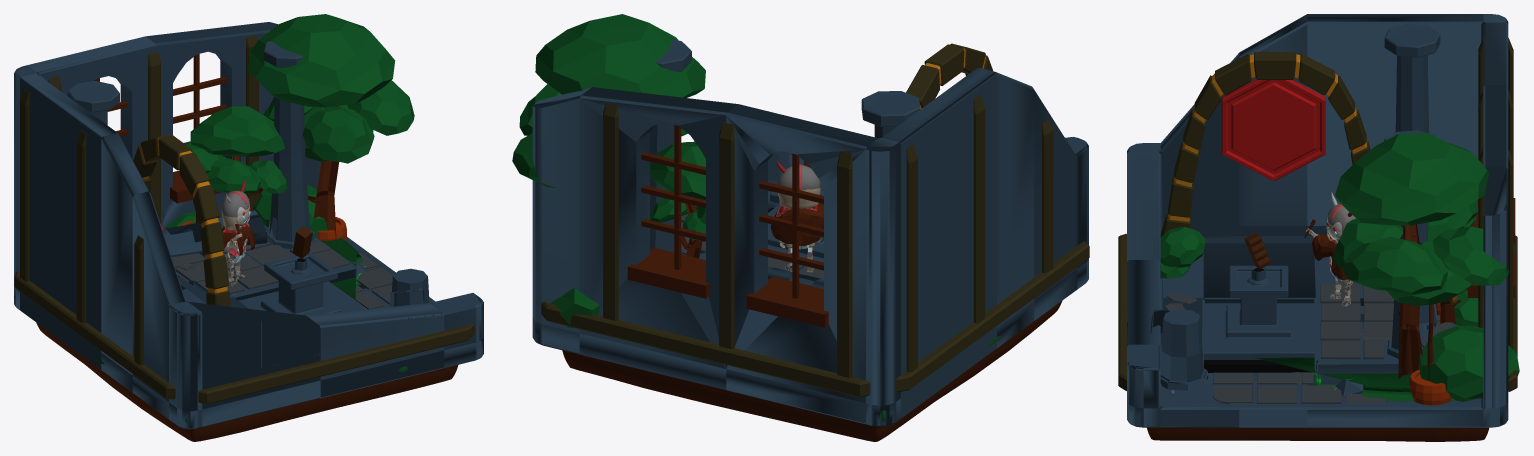
File: GameArtGrundscene_0002_bread_003.fbx
The picture shows the model from 3 angles, left to right: view 1: azimuth 30°, elevation 25°; view 2: azimuth 150°, elevation 25°; view 3: azimuth 270°, elevation 25°; orthographic projection. The views are drawn at different scales.
Visible parts, largest first — view 1: Walls, Platonischer_Körper_6, Bottom, Portal, Pillar, Würfel_9, Altar, Platonischer_Körper_8, Platonischer_Körper3, Würfel_5_2, Platonischer_Körper1, Würfel_1_2 (+22 smaller); view 2: Walls, Platonischer_Körper_6, Bottom, Würfel_8, Würfel_5_2, Würfel_3_2, Würfel_2_3, Würfel_4_2, Würfel_1_2, Würfel_7_2, Würfel_1_5, Würfel_8_3 (+17 smaller); view 3: Walls, Platonischer_Körper_6, Emblem, TempleFloor, Altar, Portal, Bottom, Platonischer_Körper1, Bush_4, Pillar_2, Pillar_1, Platonischer_Körper2 (+31 smaller).
Boxes of the visible parts, x1,y1,x2,y2 form: Walls: [14, 22, 483, 429]; Platonischer_Körper_6: [248, 14, 395, 107]; Bottom: [36, 322, 458, 441]; Portal: [133, 134, 230, 306]; Pillar: [263, 41, 314, 248]; Würfel_9: [198, 324, 474, 404]; Altar: [238, 252, 367, 315]; Platonischer_Körper_8: [190, 106, 285, 156]; Platonischer_Körper3: [302, 106, 374, 163]; Würfel_5_2: [14, 271, 175, 399]; Platonischer_Körper1: [347, 80, 414, 135]; Würfel_1_2: [76, 130, 86, 323]; Walls: [532, 67, 1088, 426]; Platonischer_Körper_6: [535, 14, 705, 97]; Bottom: [562, 301, 1062, 441]; Würfel_8: [541, 302, 870, 397]; Würfel_5_2: [895, 241, 1089, 392]; Würfel_3_2: [837, 151, 852, 377]; Würfel_2_3: [719, 122, 734, 349]; Würfel_4_2: [603, 102, 618, 320]; Würfel_1_2: [973, 94, 985, 323]; Würfel_7_2: [906, 144, 917, 372]; Würfel_1_5: [627, 247, 709, 298]; Würfel_8_3: [746, 276, 828, 327]; Walls: [1127, 14, 1508, 427]; Platonischer_Körper_6: [1335, 133, 1488, 225]; Emblem: [1221, 79, 1325, 180]; TempleFloor: [1160, 243, 1398, 384]; Altar: [1203, 265, 1315, 359]; Portal: [1160, 52, 1370, 237]; Bottom: [1147, 427, 1489, 441]; Platonischer_Körper1: [1343, 236, 1448, 294]; Bush_4: [1418, 325, 1519, 401]; Pillar_2: [1384, 23, 1440, 133]; Pillar_1: [1160, 309, 1207, 390]; Platonischer_Körper2: [1433, 226, 1508, 285].
Bounding box in the file's own units: 22.28 × 16.41 × 20.03.
25 materials, 2 textured.
